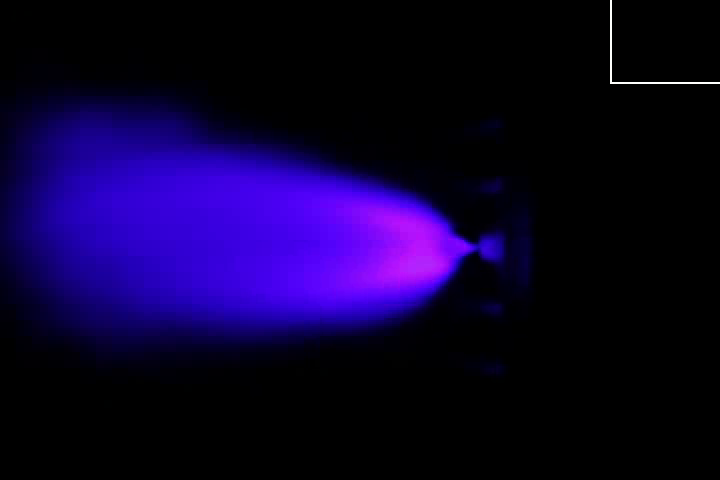burner cap: (481, 232, 505, 261)
unstable: (321, 172, 471, 305)
